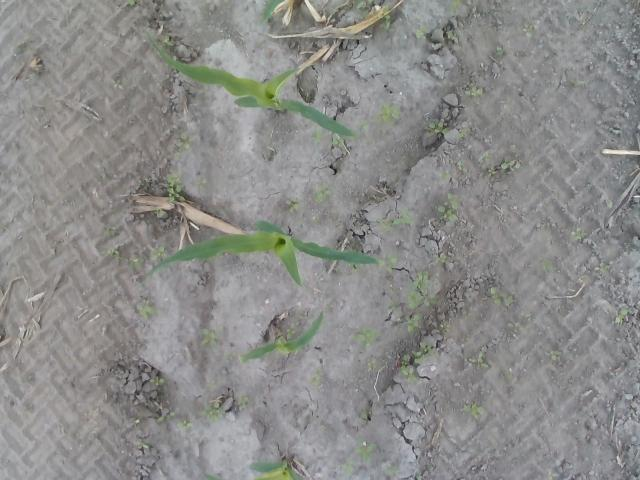Maize: (144, 32, 358, 139), (146, 218, 382, 288), (239, 310, 324, 362), (206, 455, 304, 480), (262, 0, 286, 22)
Weeds: (390, 270, 438, 334), (436, 193, 459, 229), (384, 208, 413, 234), (166, 173, 187, 203), (486, 162, 522, 178), (312, 181, 336, 205), (174, 132, 194, 160), (356, 438, 378, 463), (353, 328, 378, 349), (200, 326, 226, 346), (378, 102, 402, 123), (198, 401, 222, 422), (400, 360, 421, 384), (414, 342, 433, 366), (490, 286, 512, 306), (467, 350, 489, 368), (540, 256, 561, 274), (156, 406, 176, 424), (138, 302, 157, 320), (462, 402, 482, 418), (308, 368, 322, 390), (570, 226, 588, 243), (430, 120, 449, 136), (127, 256, 144, 273), (285, 198, 303, 214), (614, 306, 629, 325), (464, 85, 484, 98), (522, 22, 538, 38), (366, 358, 380, 375), (414, 24, 428, 41), (149, 375, 168, 387), (152, 244, 168, 258), (382, 14, 394, 32), (575, 2, 593, 14), (355, 120, 370, 134), (160, 34, 174, 49), (237, 394, 251, 409), (102, 226, 117, 240), (507, 320, 522, 334), (152, 207, 168, 220), (570, 79, 590, 89), (383, 463, 398, 476), (444, 30, 463, 40), (195, 176, 208, 190), (449, 0, 464, 12), (385, 256, 396, 272), (110, 78, 123, 91), (550, 349, 564, 361), (598, 262, 611, 274), (105, 249, 118, 261), (331, 135, 345, 146), (351, 410, 368, 419), (134, 440, 149, 450), (286, 327, 297, 339), (356, 0, 372, 8), (438, 321, 450, 331), (431, 170, 448, 177), (631, 70, 640, 83), (178, 421, 192, 429), (344, 463, 354, 474), (312, 130, 320, 142), (440, 254, 448, 266), (496, 47, 505, 57), (456, 162, 464, 173), (126, 0, 138, 7), (458, 131, 466, 140)
